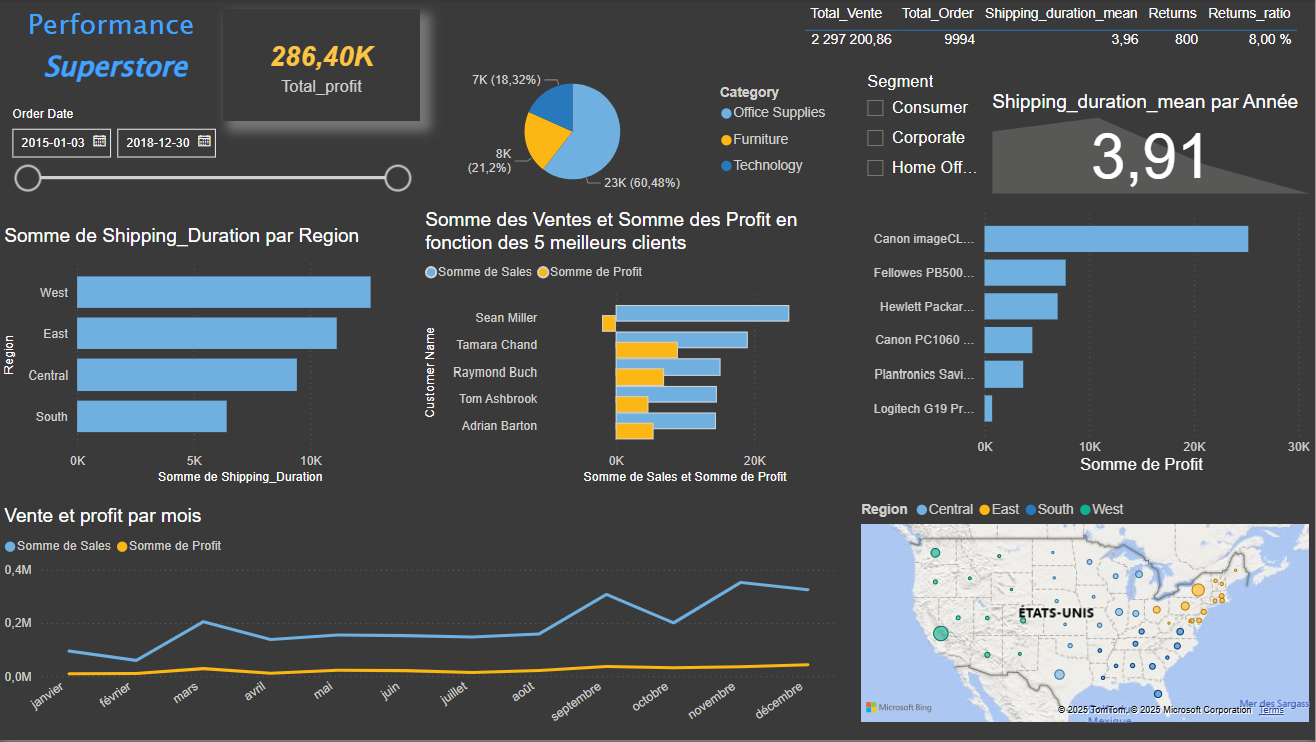

Layout of this report page (visuals, bound fields, positions):
{"tool":"powerbi","page":{"name":"Page 1","canvas":[1280,720],"ordinal":0},"visuals":[{"type":"lineChart","title":"Vente et profit par mois","fields":{"Y":["Orders1.Sales","Orders1.Shipping_Duration"],"Category":["Orders1.Order Date.Variation.Hiérarchie de dates.Mois"]},"box":[0,491.2,818,228.6],"z":0},{"type":"map","title":"Somme des Ventes en fonction de l''État et de la Région ","fields":{"Category":["Orders1.State"],"Size":["Orders1.Sales"],"Series":["Orders1.Region"]},"box":[833.6,475.6,446.4,232.5],"z":1000},{"type":"clusteredBarChart","fields":{"Category":["Orders1.Region"],"Y":["Orders1.Shipping_duration_mean"]},"box":[0,219.8,409.5,255.8],"z":2000},{"type":"tableEx","fields":{"Values":["Orders1.Total_Vente","Orders1.Total_Order","Orders1.Shipping_duration_mean","Orders1.Returns","Orders1.Returns_ratio"]},"box":[778.1,0,501.9,70],"z":3000},{"type":"slicer","fields":{"Values":["Orders1.Segment"]},"box":[899.7,66.1,129.4,128.4],"z":4000},{"type":"pieChart","title":"Quantité vendu par Catégorie de produits ","fields":{"Category":["Orders1.Category"],"Y":["Orders1.Quantity"]},"box":[464.9,64.2,434.8,129.4],"z":5000},{"type":"kpi","fields":{"Indicator":["Orders1.Shipping_duration_mean"],"TrendLine":["Orders1.Order Date.Variation.Hiérarchie de dates.Année"]},"box":[1029.1,89.5,250.9,105],"z":6000},{"type":"textbox","box":[0,0,262.6,100.2],"z":7000},{"type":"clusteredBarChart","fields":{"Category":["Orders1.Product Name"],"Y":["Orders1.Shipping_duration_mean"]},"box":[833.6,194.5,446.4,270.4],"z":8000},{"type":"clusteredBarChart","title":"Somme des Ventes et Somme des Profit en fonction des 5 meilleurs clients","fields":{"Y":["Orders1.Shipping_duration_mean"],"Category":["Orders1.Segment"]},"box":[409.5,204.3,408.5,271.4],"z":9000},{"type":"slicer","fields":{"Values":["Orders1.Order Date"]},"box":[0,100.2,409.5,119.6],"z":10000},{"type":"card","fields":{"Values":["Orders1.Total_profit"]},"box":[251.9,9.7,191.6,108.9],"z":11000}]}

Visuals, with their boxes in screenshot pixels (x1, y1, x2, y2), scaled from the page's 1280x720 canvas onto the 1316x742 screenshot:
"Vente et profit par mois" lineChart: (0,506,841,741)
"Somme des Ventes en fonction de l''État et de la Région " map: (857,490,1315,730)
clusteredBarChart - Orders1.Region x Orders1.Shipping_duration_mean: (0,227,421,490)
tableEx - Orders1.Total_Vente x Orders1.Total_Order: (800,0,1315,72)
slicer - Orders1.Segment: (925,68,1058,200)
"Quantité vendu par Catégorie de produits " pieChart: (478,66,925,200)
kpi - Orders1.Shipping_duration_mean x Orders1.Order Date.Variation.Hiérarchie de dates.Année: (1058,92,1315,200)
textbox: (0,0,270,103)
clusteredBarChart - Orders1.Product Name x Orders1.Shipping_duration_mean: (857,200,1315,479)
"Somme des Ventes et Somme des Profit en fonction des 5 meilleurs clients" clusteredBarChart: (421,211,841,490)
slicer - Orders1.Order Date: (0,103,421,227)
card - Orders1.Total_profit: (259,10,456,122)
